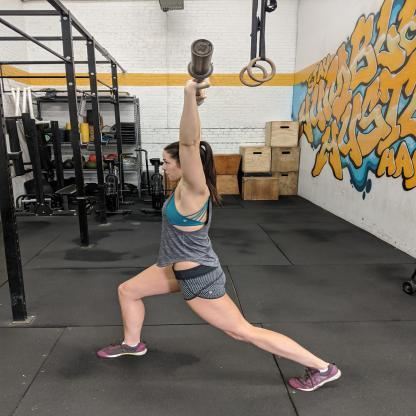Barbell: (191, 39, 218, 58)
